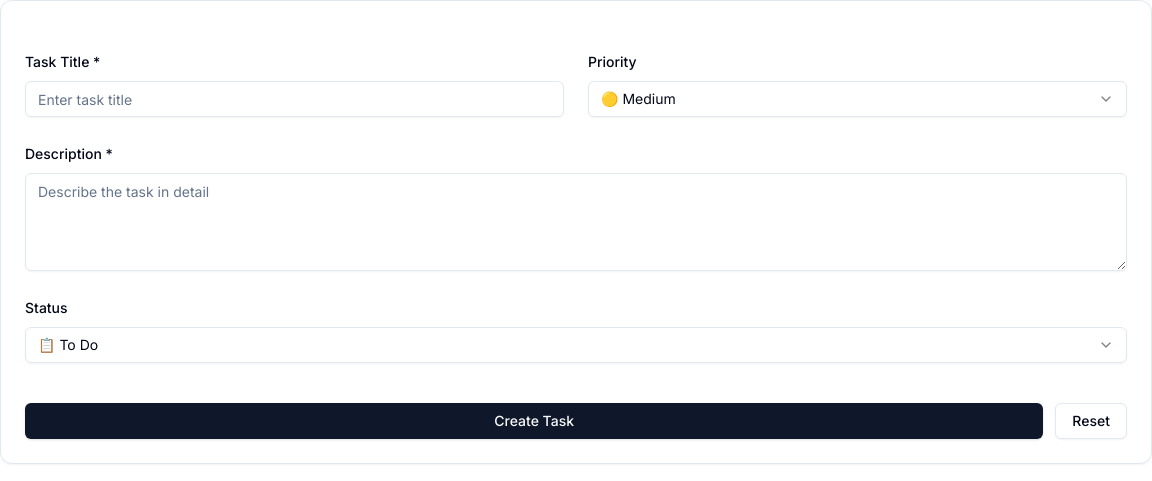
Test: TaskForm Component › Reset Functionality › mereset form saat tombol reset diklik (mode create)
Note: Fill form
Type "Test Title" into the field labelled "Task Title *" at [294, 99], box [25,81,564,117]
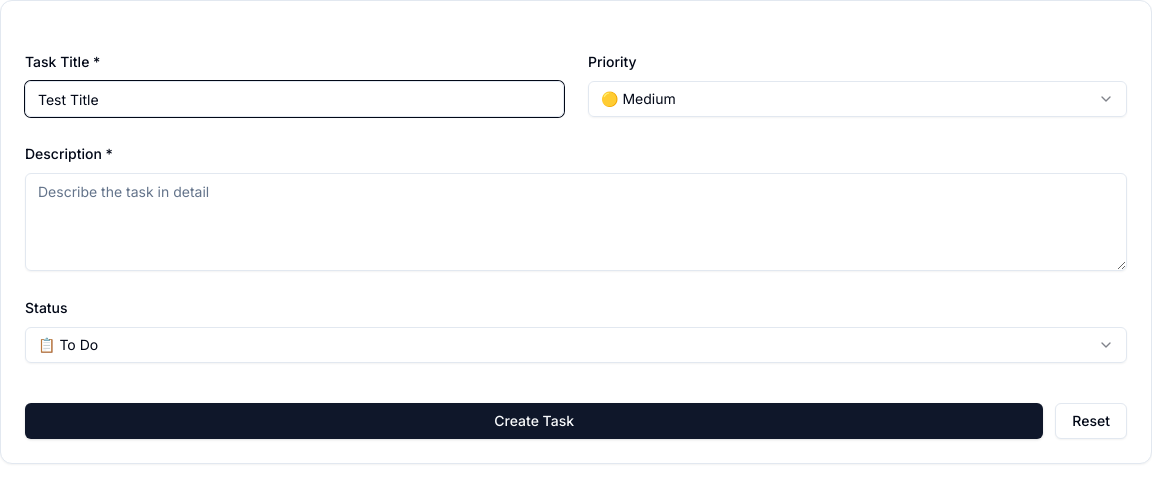
Type "Test Description" into the text box labelled "Description *" at [576, 222], box [25,173,1127,271]
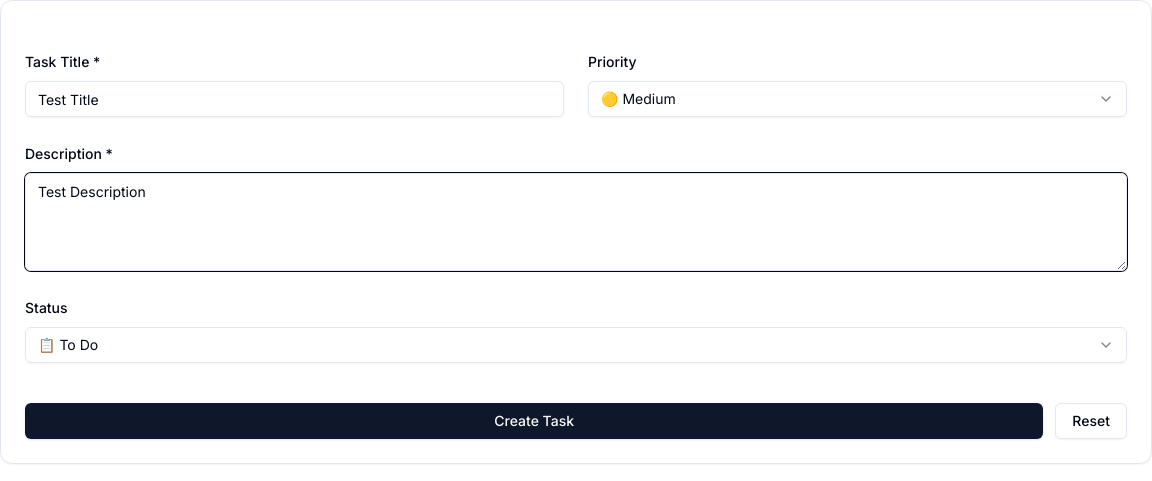
Note: Reset form
Click the button "Reset" at [1091, 421], box [1055,403,1127,439]
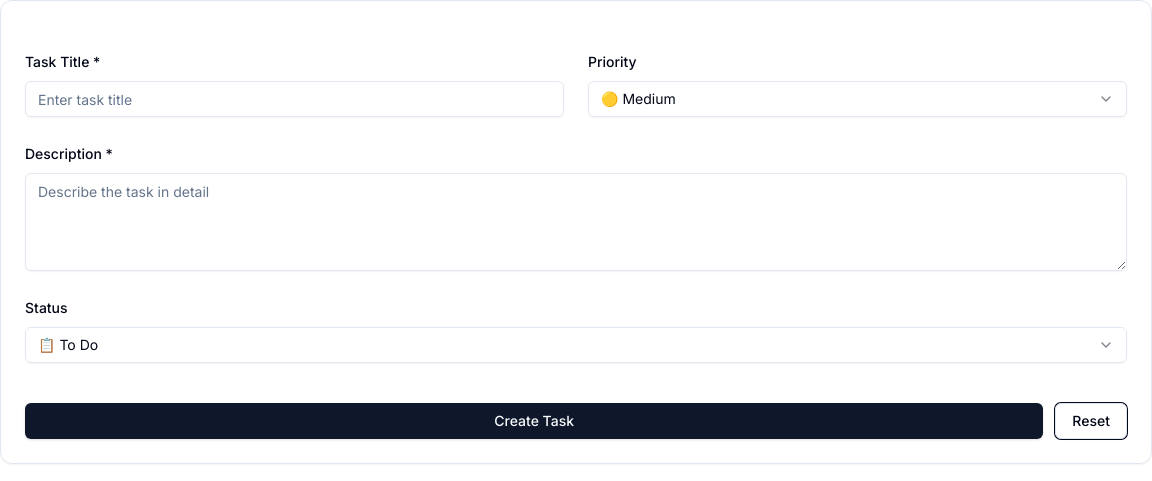
Expected: the field labelled "Task Title *" is empty, [25,81,564,117]
Expected: the text box labelled "Description *" is empty, [25,173,1127,271]
